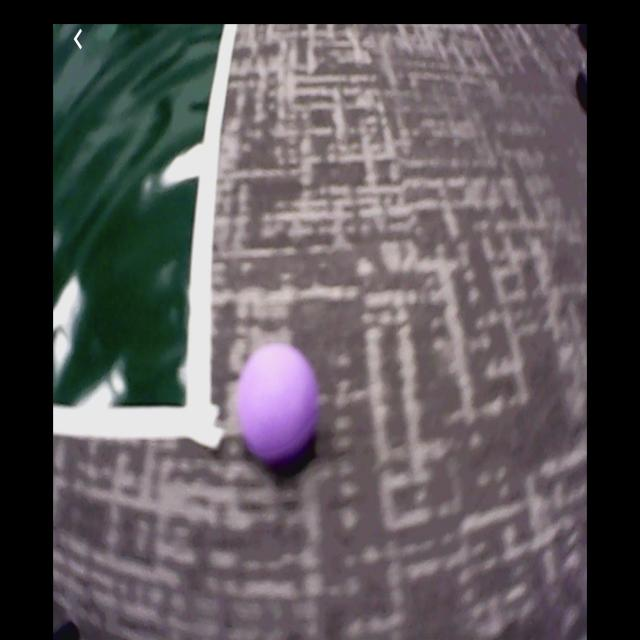ball: (237, 342, 320, 464)
